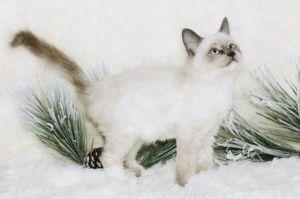siamese: (180, 13, 250, 83)
